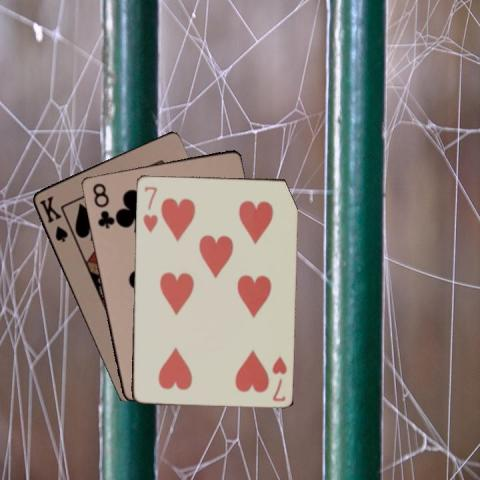7h: (139, 184, 159, 234), (269, 353, 288, 403)
8c: (89, 180, 114, 230)
Ks: (36, 193, 69, 243)
